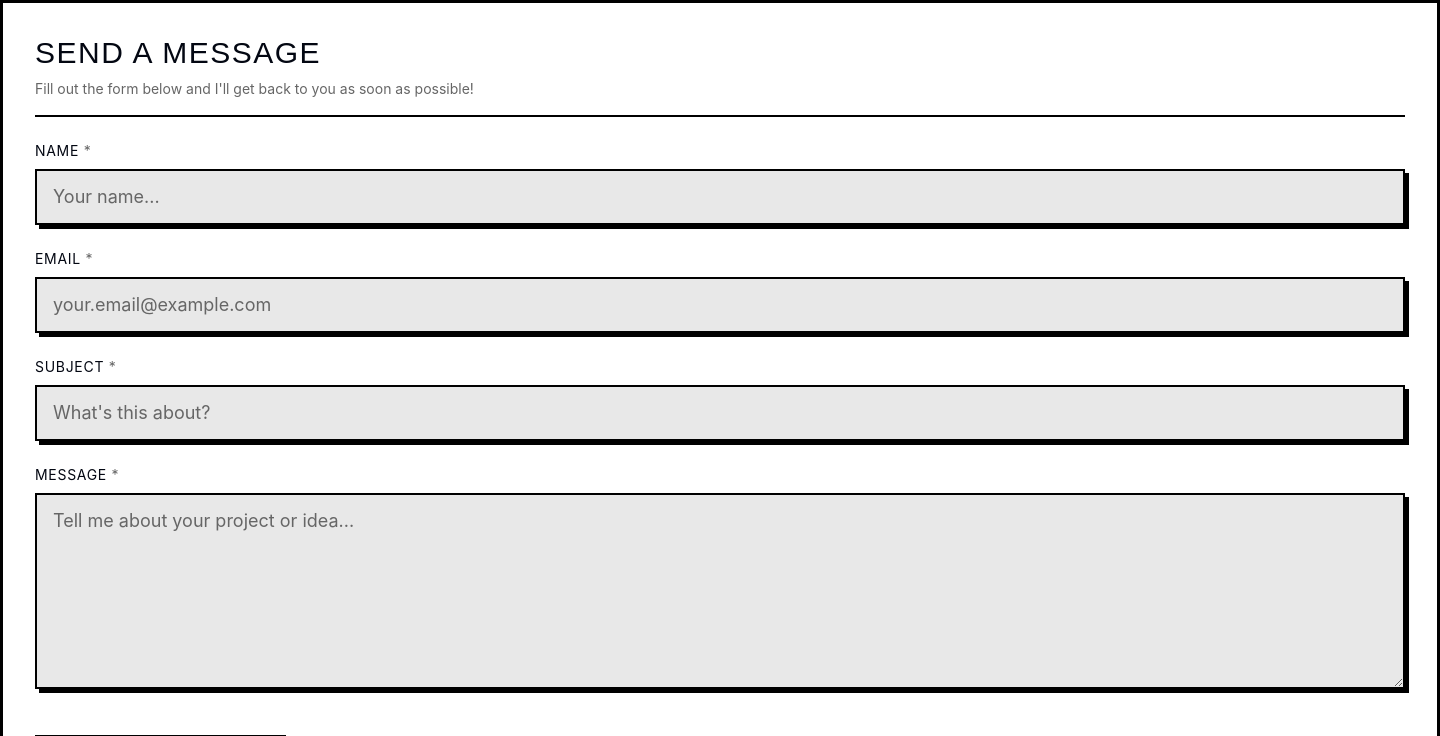
it: ContactForm › Validation › shows error when name is too short
Type "A" into the field labelled "Name *" at (720, 197), box [35,169,1405,225]
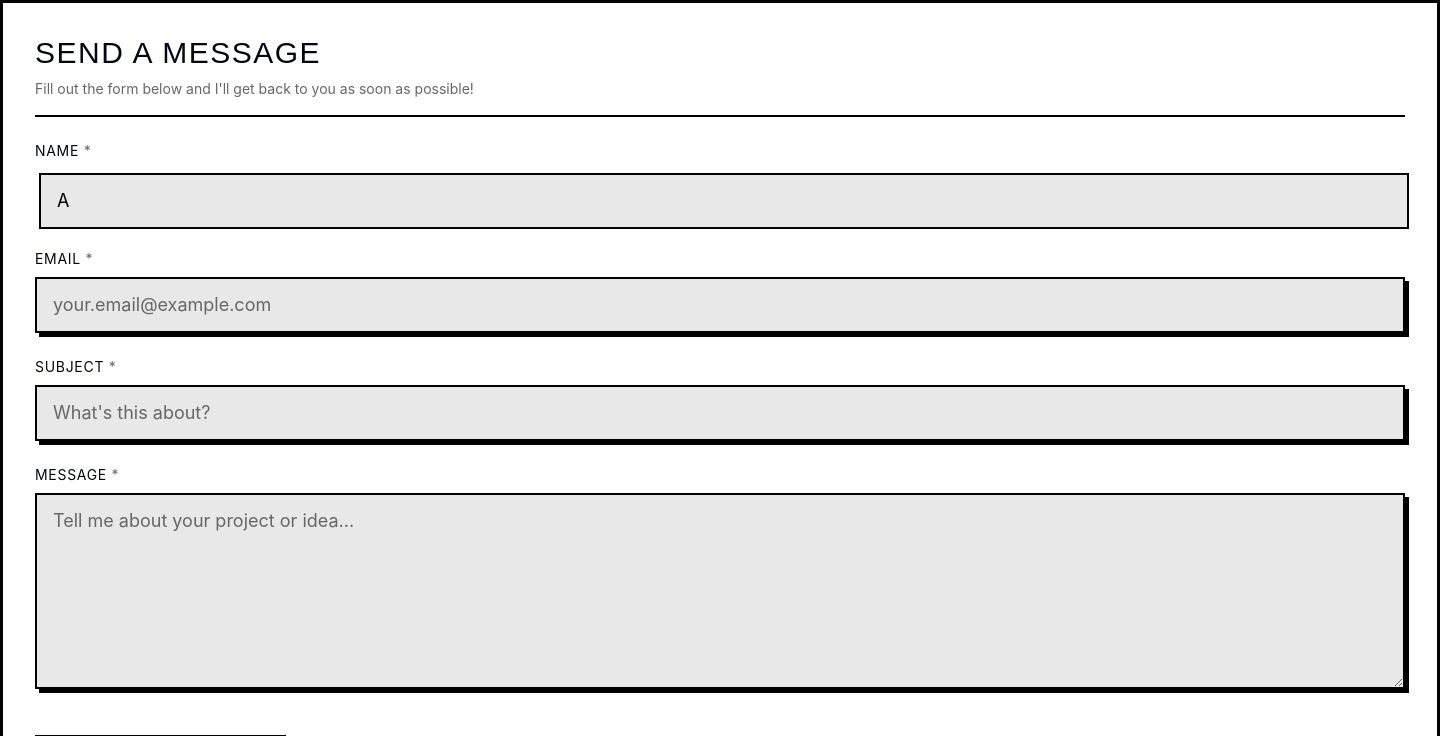
Press Tab
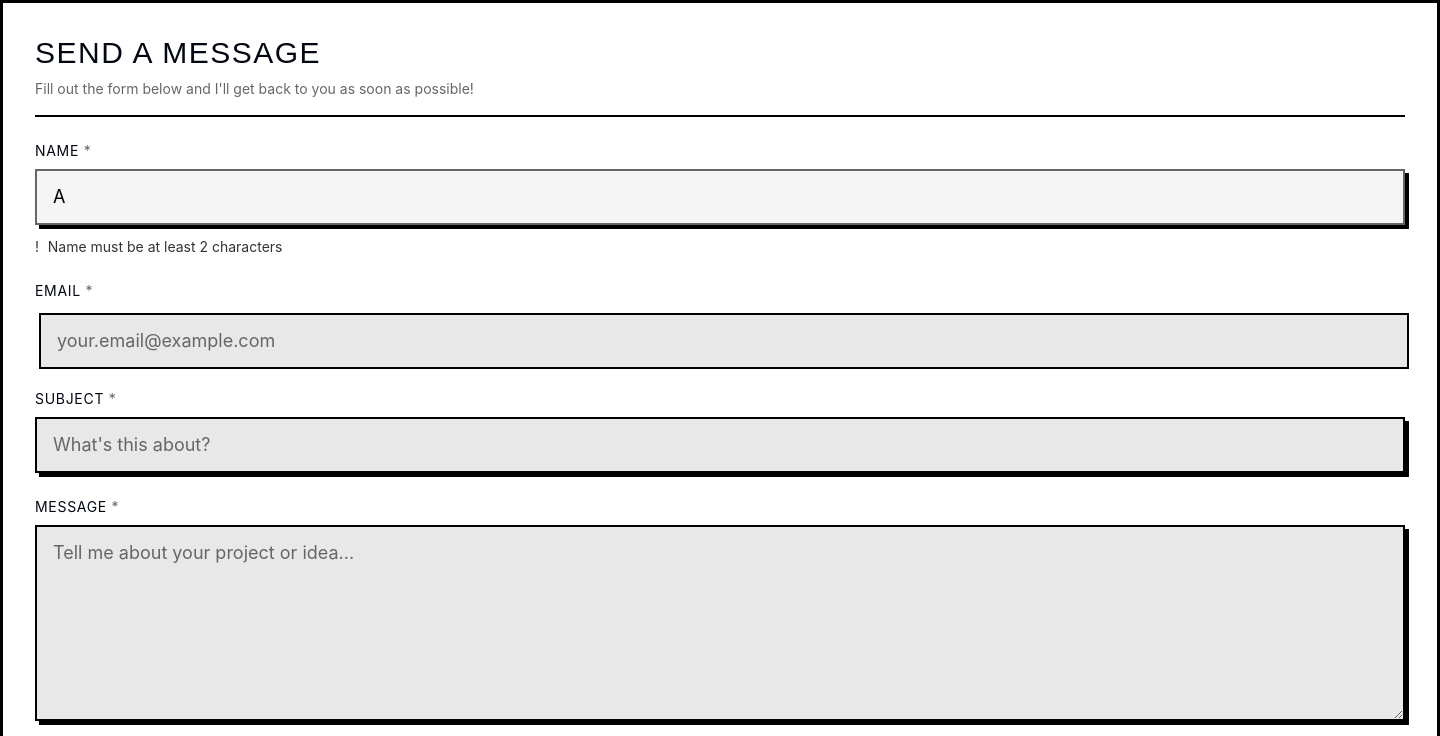
expect the text "Name must be at least 2 characters" is shown: met, box [48,237,282,257]
